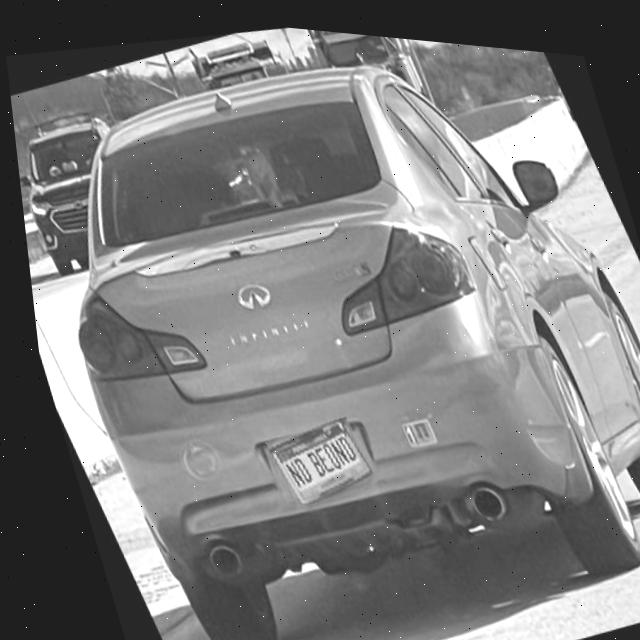LicensePlate: (260, 413, 365, 501)
